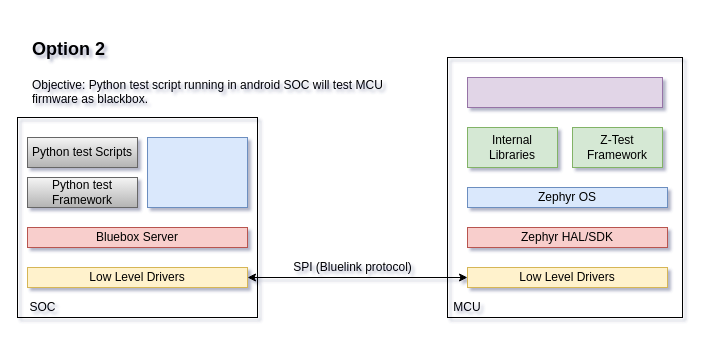
The diagram is 706 pixels wide and 341 high, and some of its shapes have lost their labels. The shapes that lost their labels are listed below. From the top down, each one's centre as x and y in pixels, then its label:
At point 564,92: "Application Modules".
At point 197,172: "Android Services".
